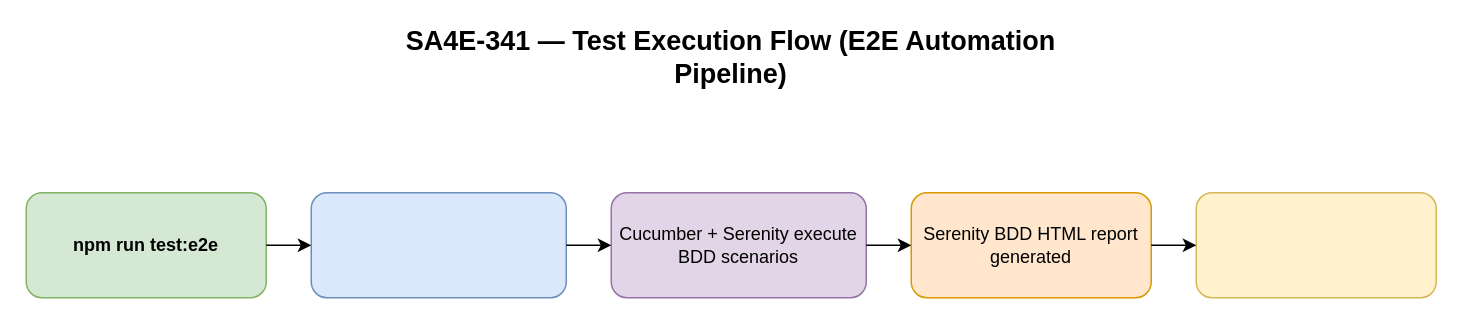
The diagram is 1463 pixels wide and 324 high, and some of its shapes have lost their labels. The shapes that lost their labels are listed below. From the top down, each one's box as (x1, y1, x2, y2) in pixels, then its label:
(310, 191, 566, 298): WDIO Runner launches IDE (wdio-vscode-service)
(1195, 191, 1436, 298): CI artifact publish (report attached)
